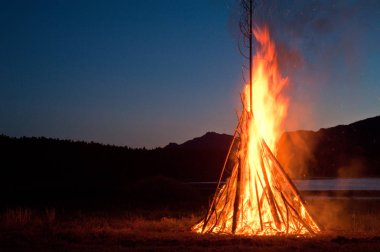fire: (245, 46, 296, 232)
